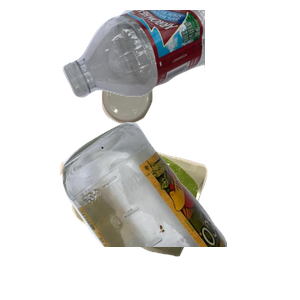glass: (60, 120, 300, 300)
metal: (99, 68, 244, 184)
plastic: (60, 10, 300, 100)
trash: (57, 137, 257, 300)
